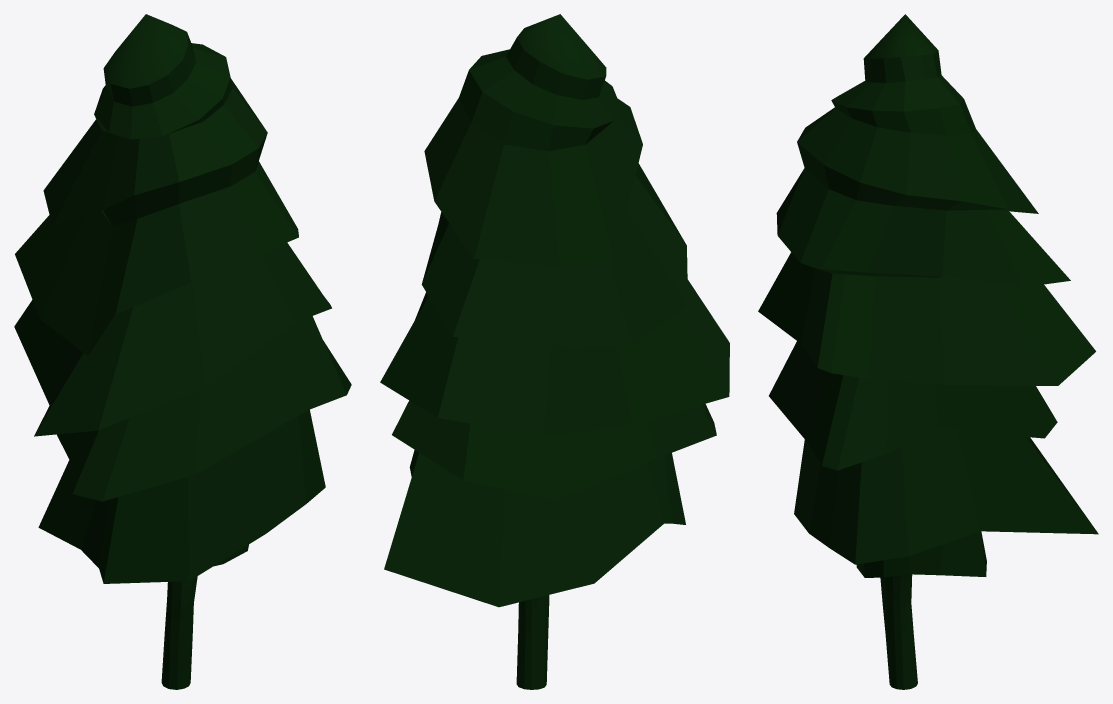
Rendered from Tree4.obj.
3 renders of one model, left to right at view 1: azimuth 30°, elevation 25°; view 2: azimuth 150°, elevation 25°; view 3: azimuth 270°, elevation 25°, orthographic. The views are drawn at different scales.
Parts seen in each view (by area): view 1: Tree; view 2: Tree; view 3: Tree.
Boxes of the visible parts, x1,y1,x2,y2 form: Tree: (14, 14, 351, 689); Tree: (380, 14, 729, 689); Tree: (758, 14, 1098, 689).
Bounding box in the file's own units: 23.49 × 48.76 × 22.95.
